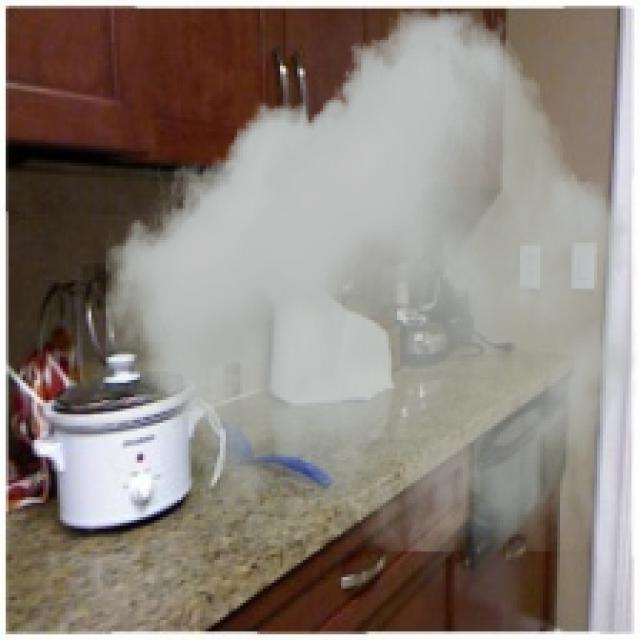smoke: (106, 9, 637, 552)
